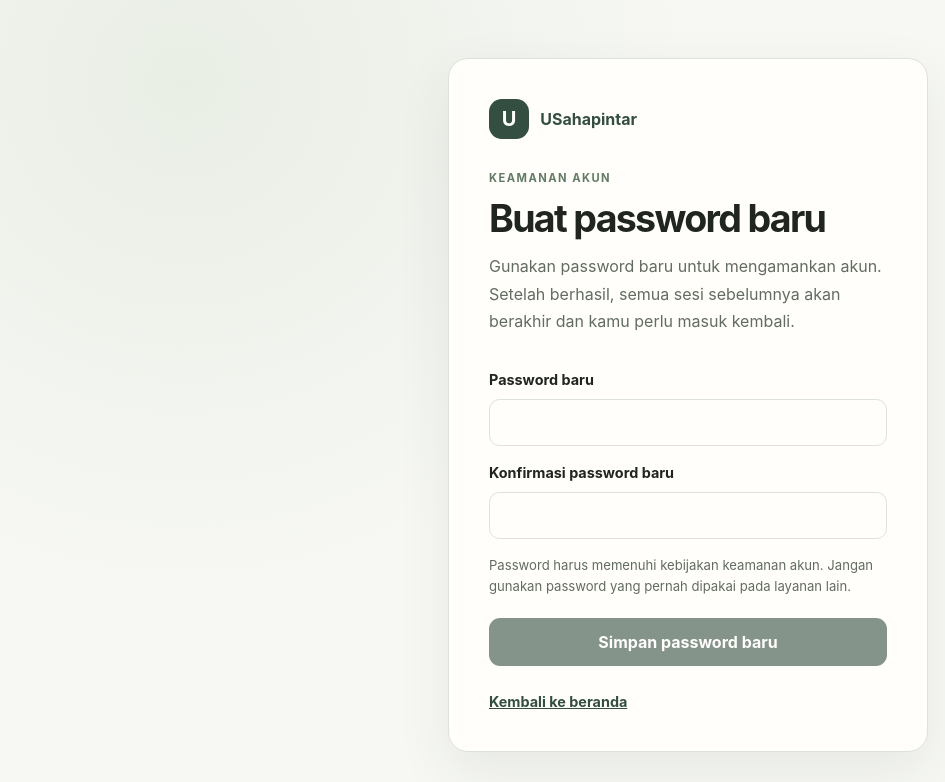
ResetPasswordPage › submits a token once and confirms successful password reset
Type "a-strong-new-password" into the password field labelled "Password baru". click: point(688, 422)
box: [489, 399, 887, 446]
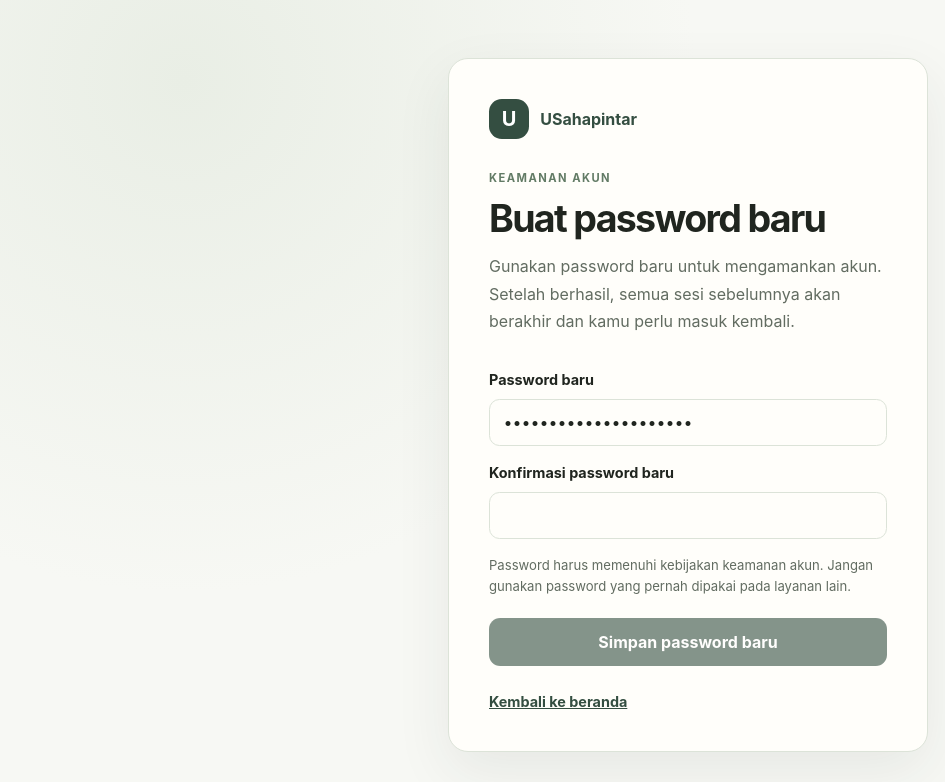
Type "a-strong-new-password" into the password field labelled "Konfirmasi password baru". click: point(688, 515)
box: [489, 492, 887, 538]
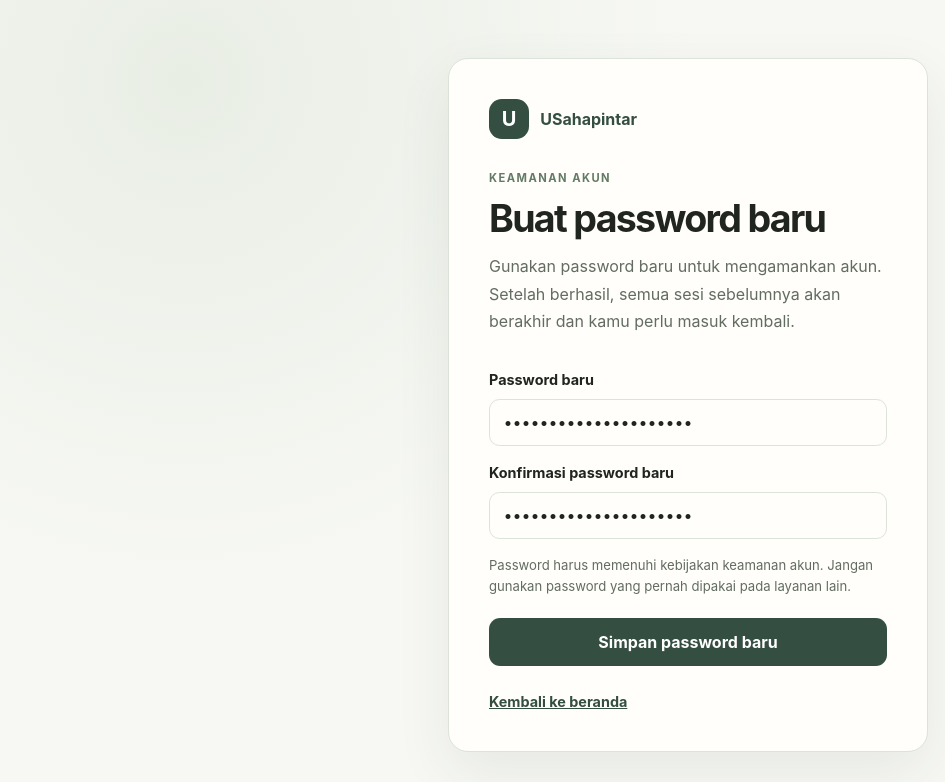
Click the button "Simpan password baru". click: point(688, 642)
box: [489, 618, 887, 666]
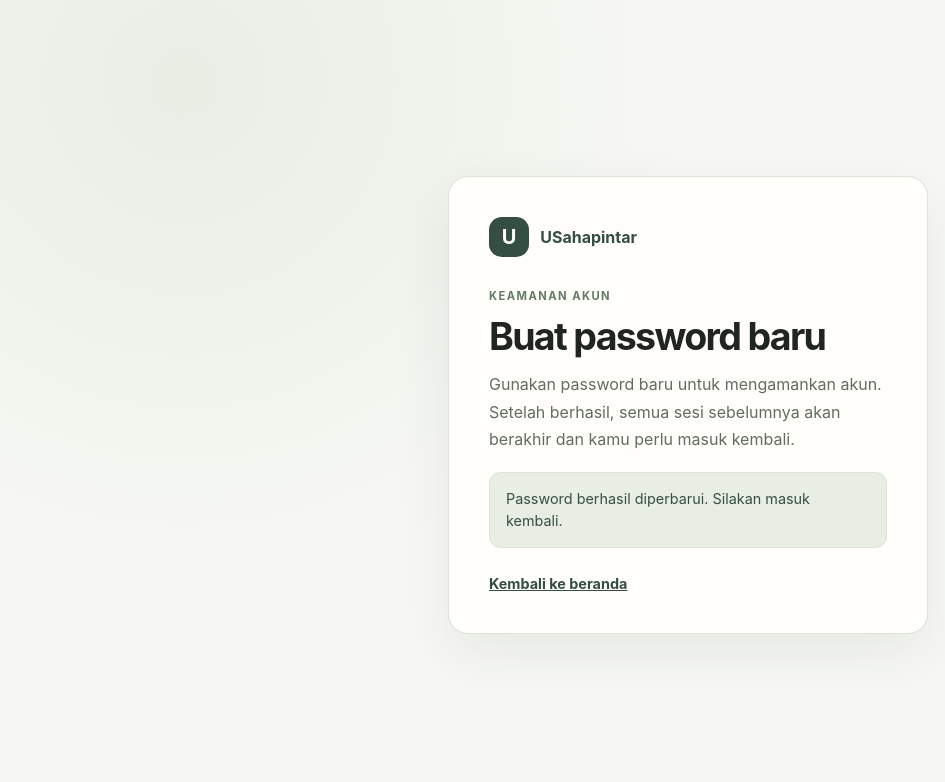
expect the message reads "Password berhasil diperbarui. Silakan masuk kembali.": met, box [506, 490, 810, 529]
